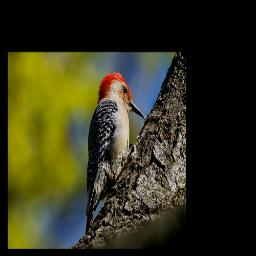Woodpecker: (86, 72, 148, 232)
